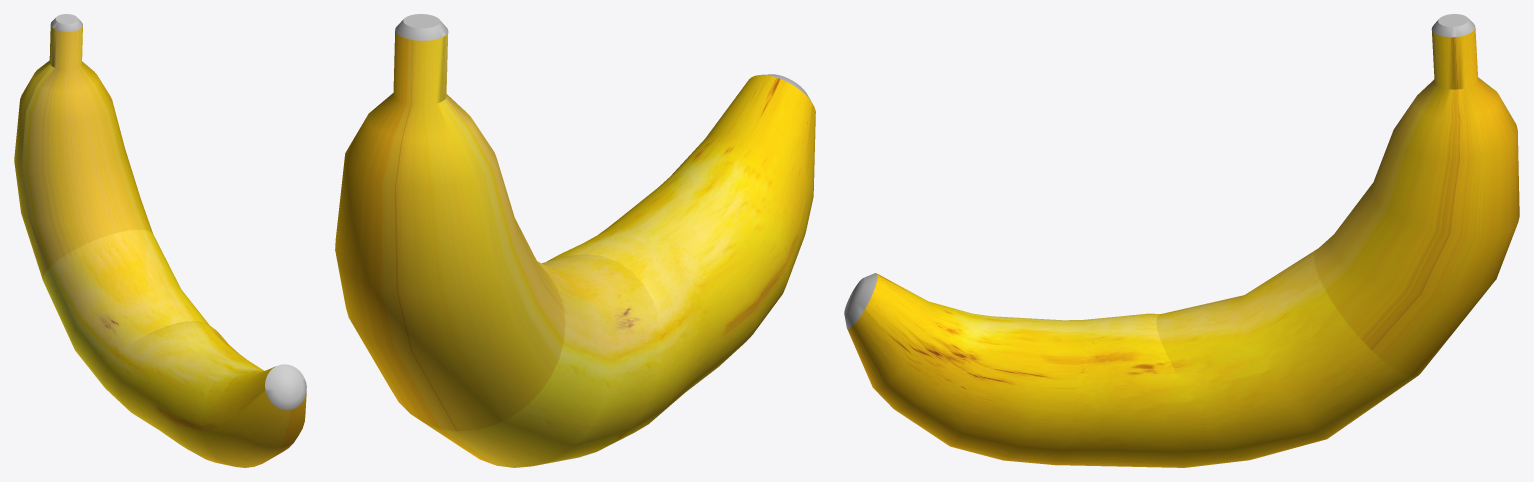
File: Banana.fbx
3 views of the same model, side by side, from view 1: azimuth 30°, elevation 25°; view 2: azimuth 150°, elevation 25°; view 3: azimuth 270°, elevation 25° (orthographic). The views are drawn at different scales.
Parts seen in each view (by area): view 1: Cylinder; view 2: Cylinder; view 3: Cylinder.
Boxes of the visible parts, left/top/right/bottom form: Cylinder: left=14, top=14, right=306, bottom=467; Cylinder: left=335, top=14, right=815, bottom=467; Cylinder: left=844, top=14, right=1519, bottom=467.
Bounding box in the file's own units: 56.42 × 166 × 230.
